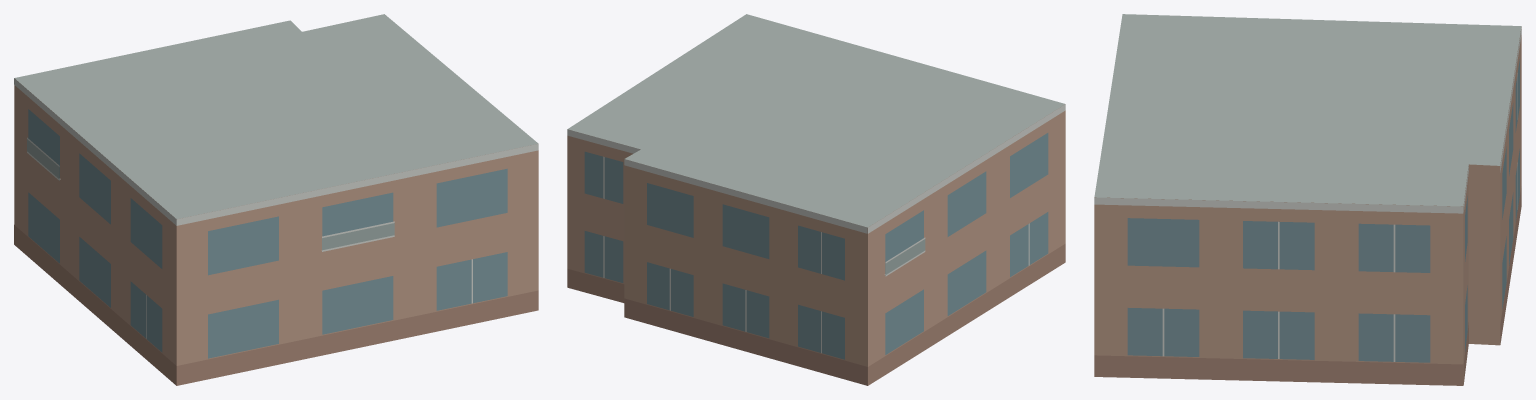
The model's file is survey-upis-32866211.glb.
3 renders of one model, left to right at view 1: azimuth 30°, elevation 25°; view 2: azimuth 150°, elevation 25°; view 3: azimuth 270°, elevation 25°, orthographic. The views are drawn at different scales.
Parts seen in each view (by area): view 1: survey-upis-32866211.tmp; view 2: survey-upis-32866211.tmp; view 3: survey-upis-32866211.tmp.
Part boxes in pixels (<box>): survey-upis-32866211.tmp: <box>14,14,538,385</box>; survey-upis-32866211.tmp: <box>567,14,1065,385</box>; survey-upis-32866211.tmp: <box>1094,14,1521,385</box>.
Size of the model in its own units: 14.04 by 6.1 by 13.17.
